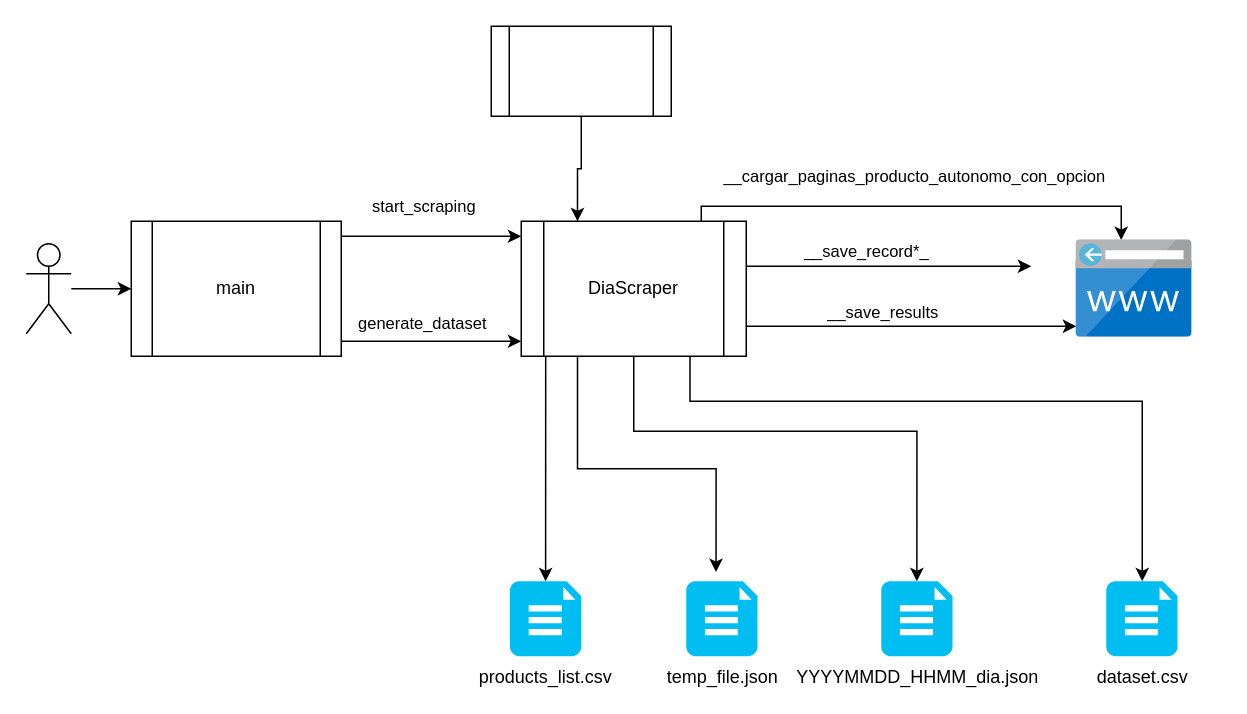
Some shapes in this 1247 by 714 pixel diagram are drawn without their labels. The shapes that lost their labels are listed below. From the top down, each one's centre as x and y in pixels, then its label:
At (x=580, y=70): "utils".
At (x=48, y=288): "user".
At (x=1134, y=288): "DIA.es/compra-online".
